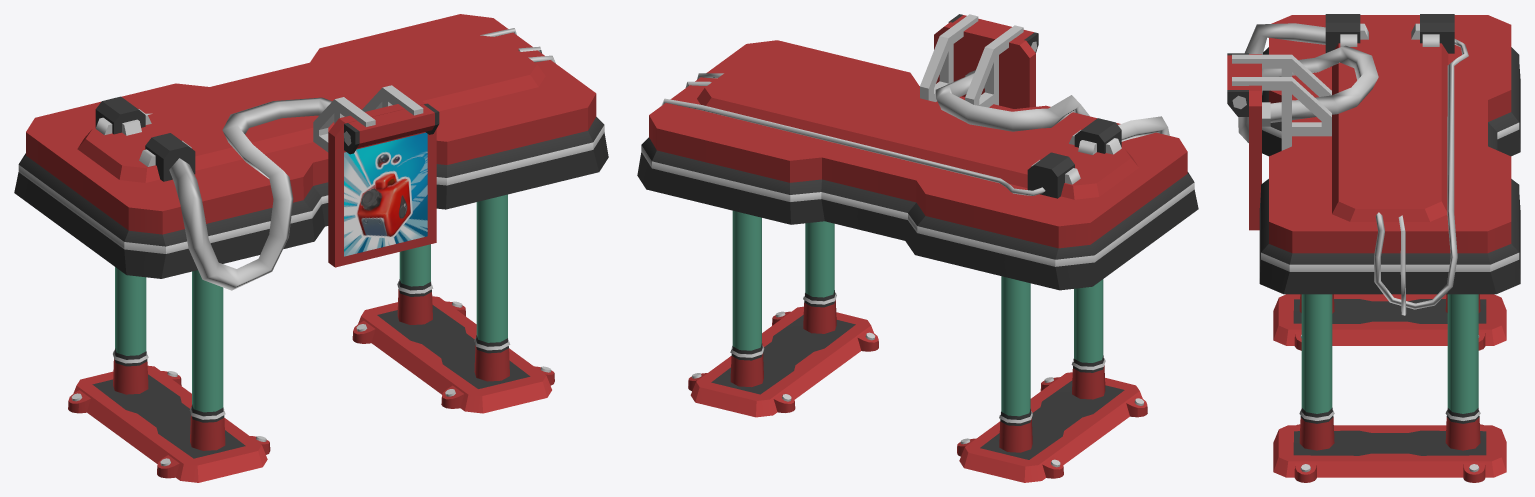
File: env_mechanicstation_gasroof_lod2.fbx
3 renders of one model, left to right at view 1: azimuth 30°, elevation 25°; view 2: azimuth 150°, elevation 25°; view 3: azimuth 270°, elevation 25°, orthographic. The views are drawn at different scales.
Visible parts, largest first — view 1: chiord_env_mechanicstation_gasroof_lod2; view 2: chiord_env_mechanicstation_gasroof_lod2; view 3: chiord_env_mechanicstation_gasroof_lod2.
Boxes of the visible parts, x1,y1,x2,y2 form: chiord_env_mechanicstation_gasroof_lod2: (14, 14, 608, 482); chiord_env_mechanicstation_gasroof_lod2: (637, 14, 1198, 482); chiord_env_mechanicstation_gasroof_lod2: (1227, 14, 1520, 482).
Size of the model in its own units: 105 by 68.88 by 56.47.
